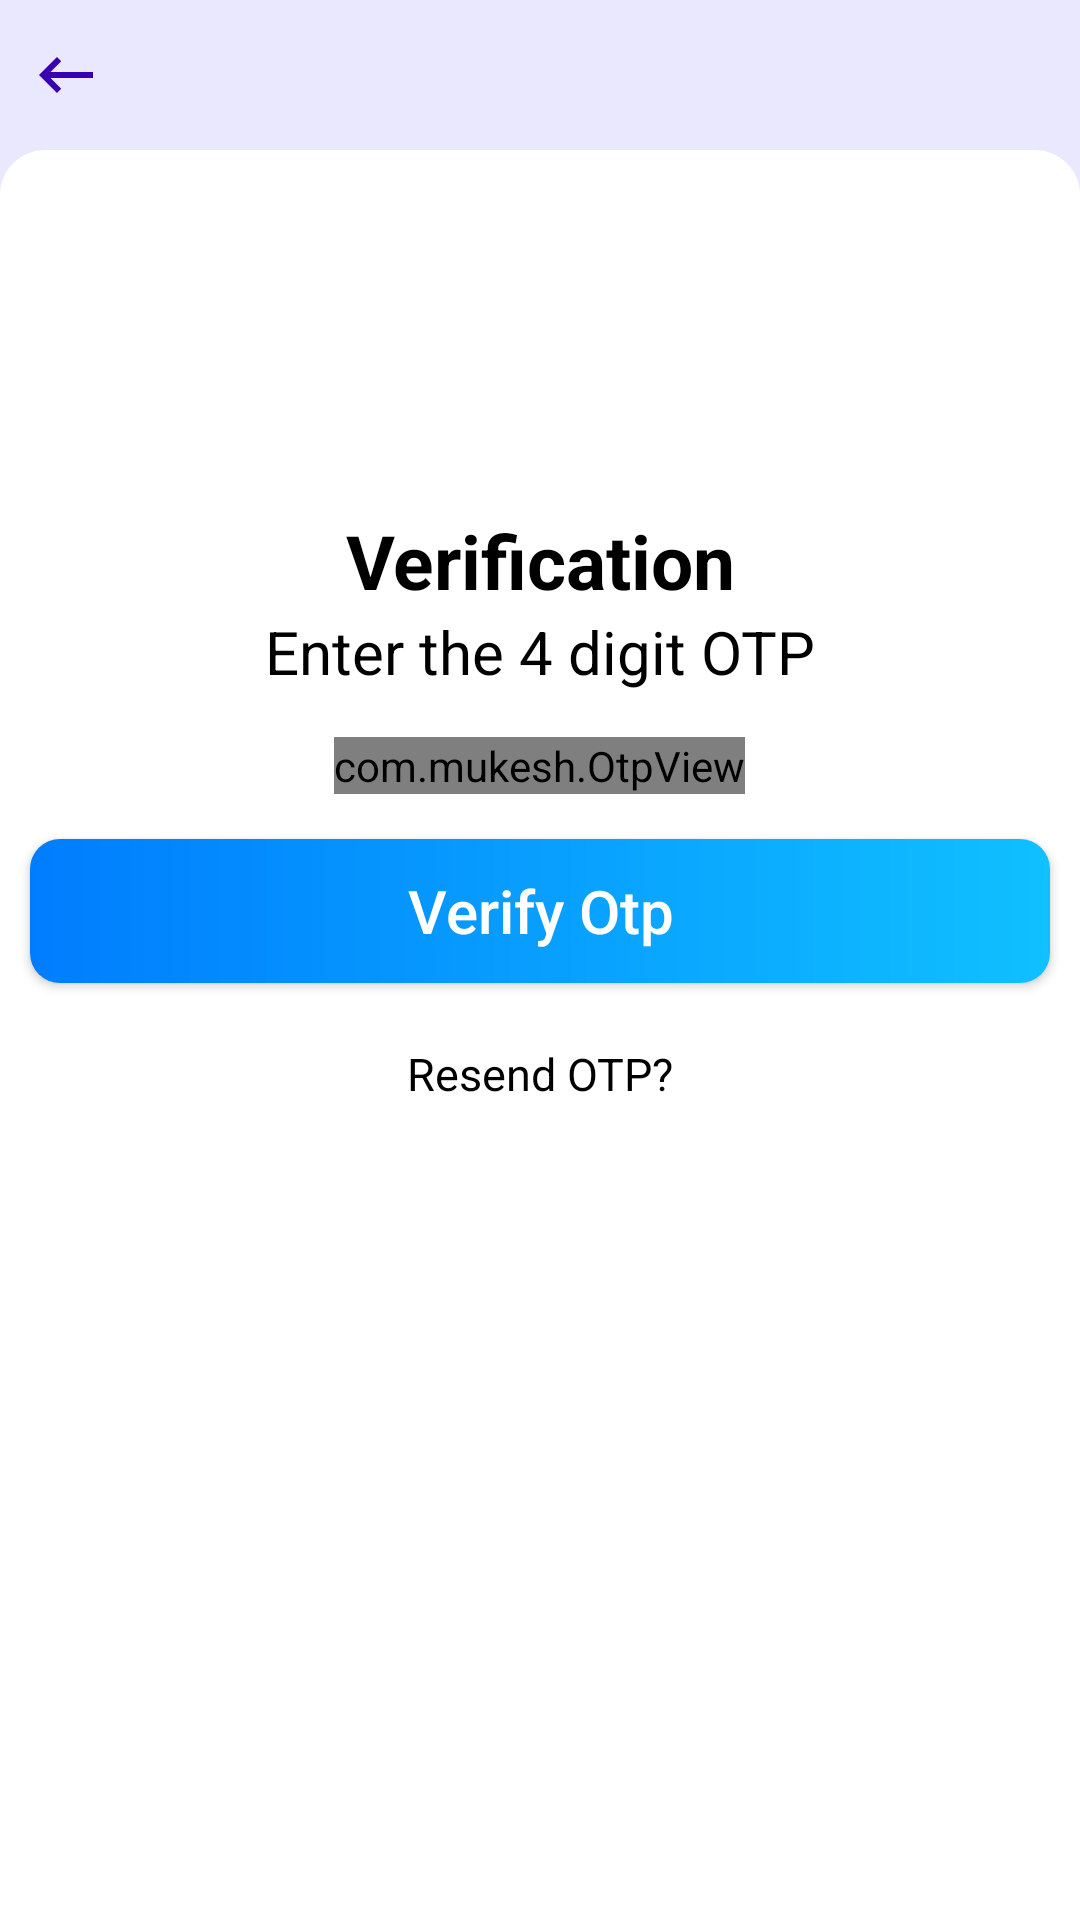

Icon bounding boxes for this 1080x1920 phone screenshot, format bbox=(x1, y1, x2, y2):
keyboard backspace: bbox=(39, 57, 93, 93)
